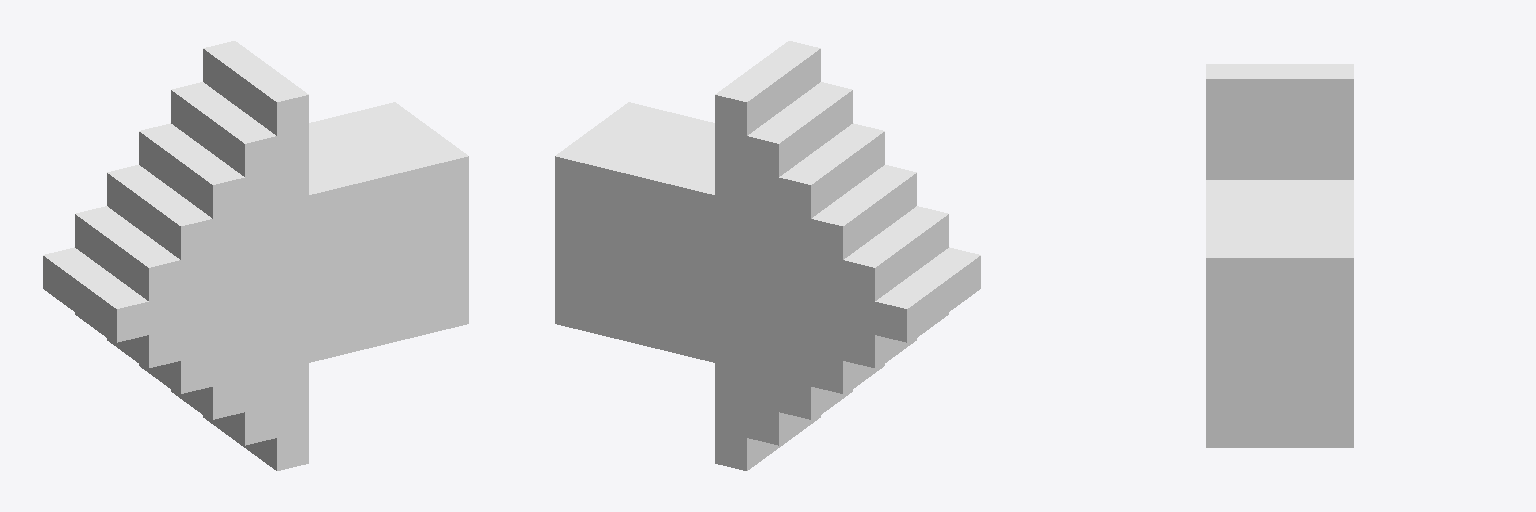
Rendered from LEFT_ARROW.obj.
3 renders of one model, left to right at view 1: azimuth 30°, elevation 25°; view 2: azimuth 150°, elevation 25°; view 3: azimuth 270°, elevation 25°, orthographic.
Size of the model in its own units: 1.1 by 1.1 by 0.4.